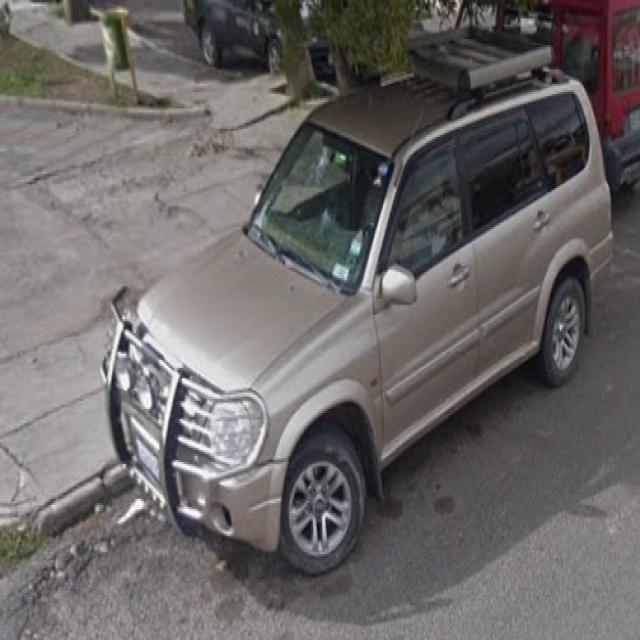cars: (123, 71, 597, 571)
